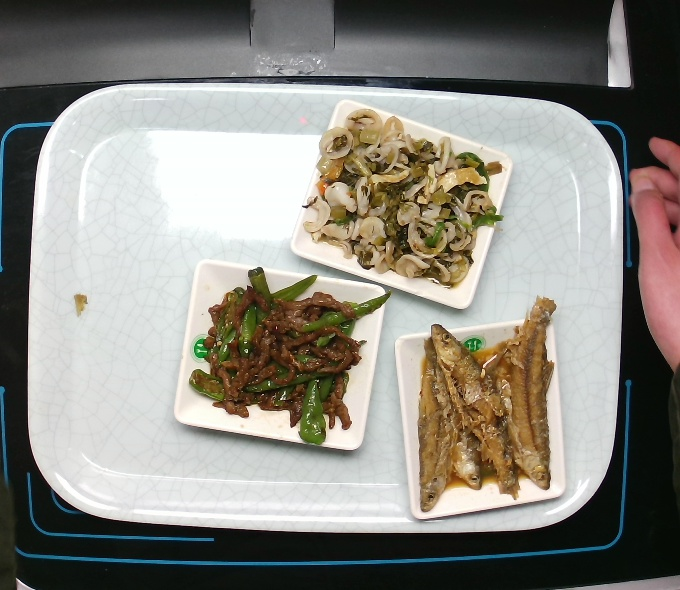wcq-QingJiaoNiuRou: (174, 269, 402, 447)
wcq-XiaoXiYu: (392, 294, 571, 518)
wcq-XueCaiYouYu: (280, 106, 514, 292)
